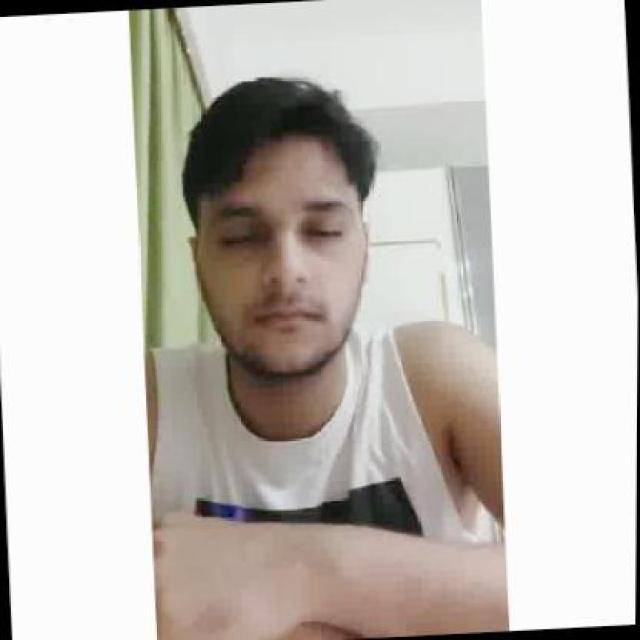inattentif: (172, 69, 377, 382)
